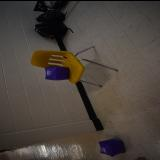cube: (98, 137, 126, 156), (44, 66, 70, 80)
